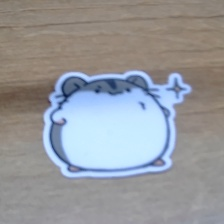mouse: (41, 68, 194, 180)
